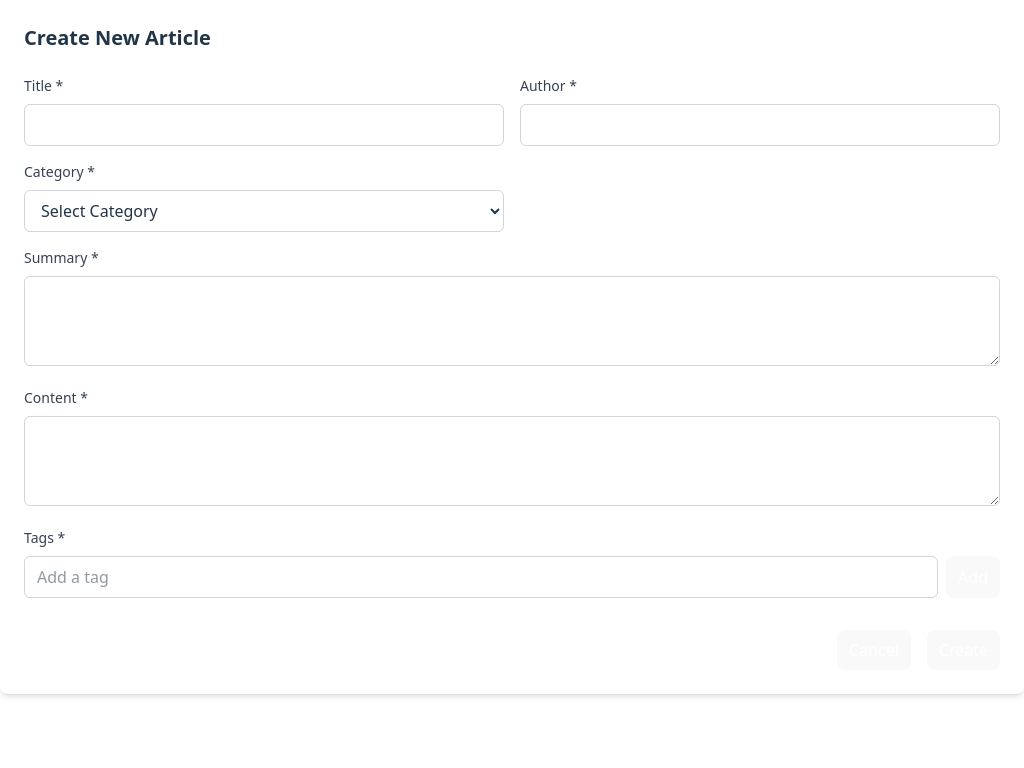
Test: ArticleForm › shows subcategories when tech category is selected
Select "Technology" in the dropdown labelled "Category *" at (264, 211), box [24,190,504,232]
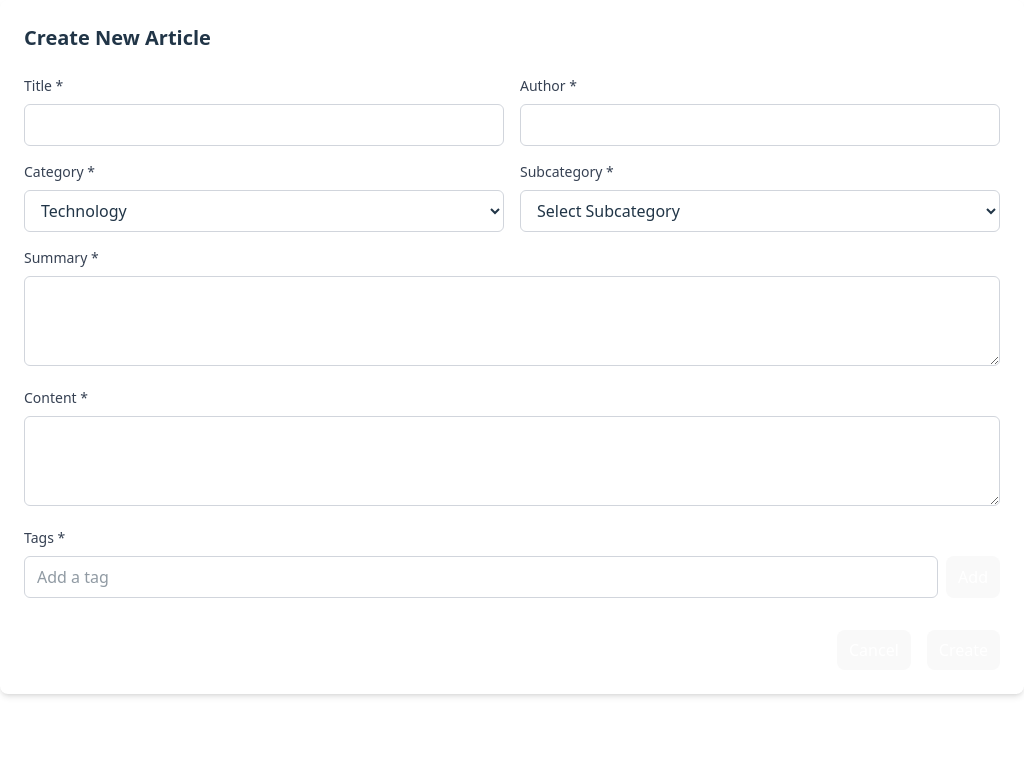
Expected: the dropdown labelled "Subcategory *" is shown, [520,190,1000,232]
